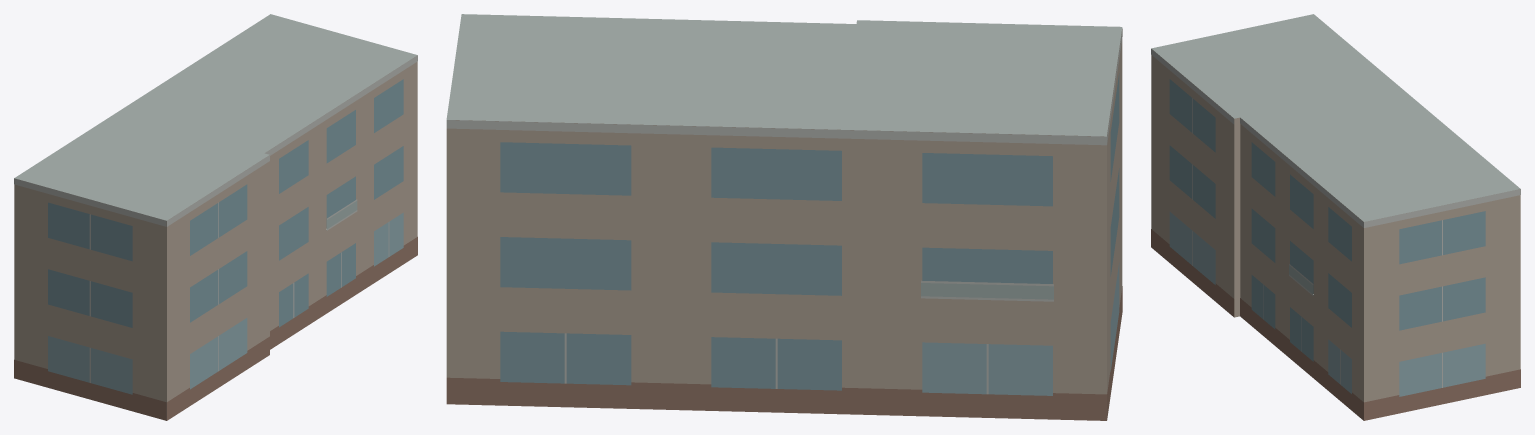
File: survey-upis-32930360.glb
3 renders of one model, left to right at view 1: azimuth 30°, elevation 25°; view 2: azimuth 150°, elevation 25°; view 3: azimuth 270°, elevation 25°, orthographic. The views are drawn at different scales.
Visible parts, largest first — view 1: survey-upis-32930360.tmp; view 2: survey-upis-32930360.tmp; view 3: survey-upis-32930360.tmp.
Boxes of the visible parts, x1,y1,x2,y2 form: survey-upis-32930360.tmp: (14, 14, 417, 420); survey-upis-32930360.tmp: (446, 14, 1122, 420); survey-upis-32930360.tmp: (1151, 14, 1520, 420).
Size of the model in its own units: 17.73 by 7.9 by 13.32.
